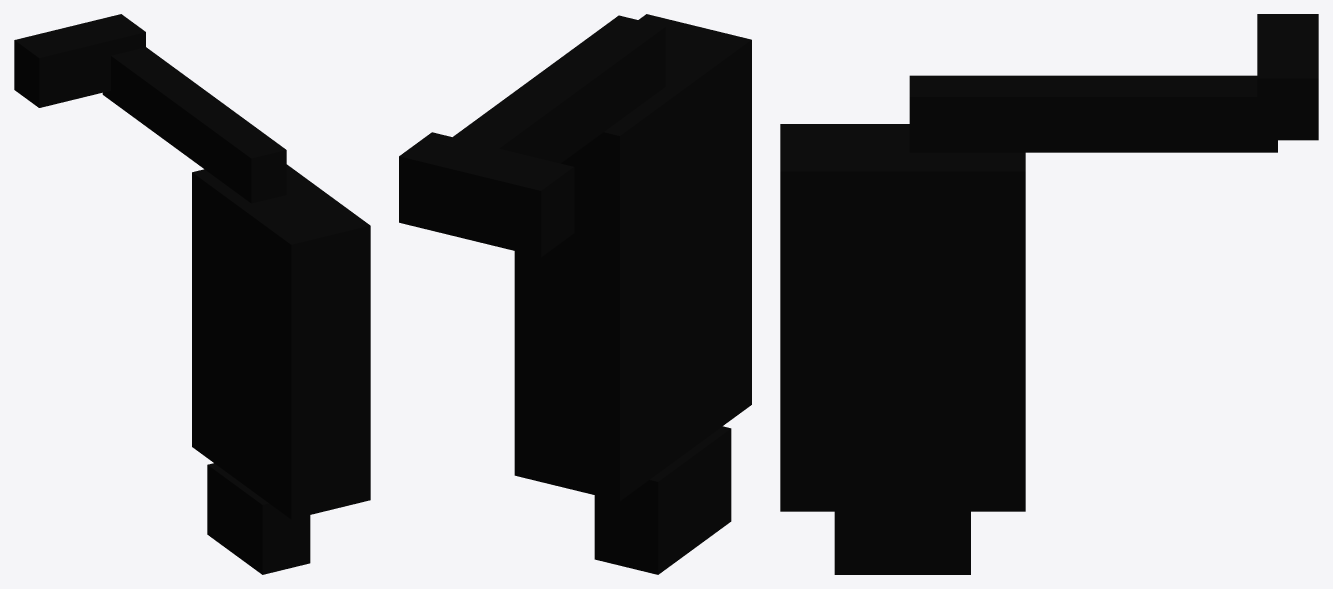
File: head.obj
3 views of the same model, side by side, from view 1: azimuth 30°, elevation 25°; view 2: azimuth 150°, elevation 25°; view 3: azimuth 270°, elevation 25° (orthographic). The views are drawn at different scales.
Visible parts, largest first — view 1: receiver, boom, microphone, ear_hook; view 2: receiver, microphone, boom, ear_hook; view 3: receiver, boom, ear_hook, microphone.
Boxes of the visible parts, left/top/right/bottom form: receiver: left=192, top=164, right=370, bottom=519; boom: left=102, top=47, right=286, bottom=203; microphone: left=14, top=14, right=145, bottom=107; ear_hook: left=207, top=463, right=310, bottom=574; receiver: left=514, top=14, right=751, bottom=501; microphone: left=399, top=132, right=574, bottom=257; boom: left=453, top=15, right=665, bottom=163; ear_hook: left=594, top=426, right=731, bottom=574; receiver: left=780, top=124, right=1025, bottom=511; boom: left=909, top=75, right=1277, bottom=152; ear_hook: left=834, top=511, right=970, bottom=574; microphone: left=1257, top=14, right=1318, bottom=140.
Size of the model in its own units: 1.45 by 4.05 by 3.95.
